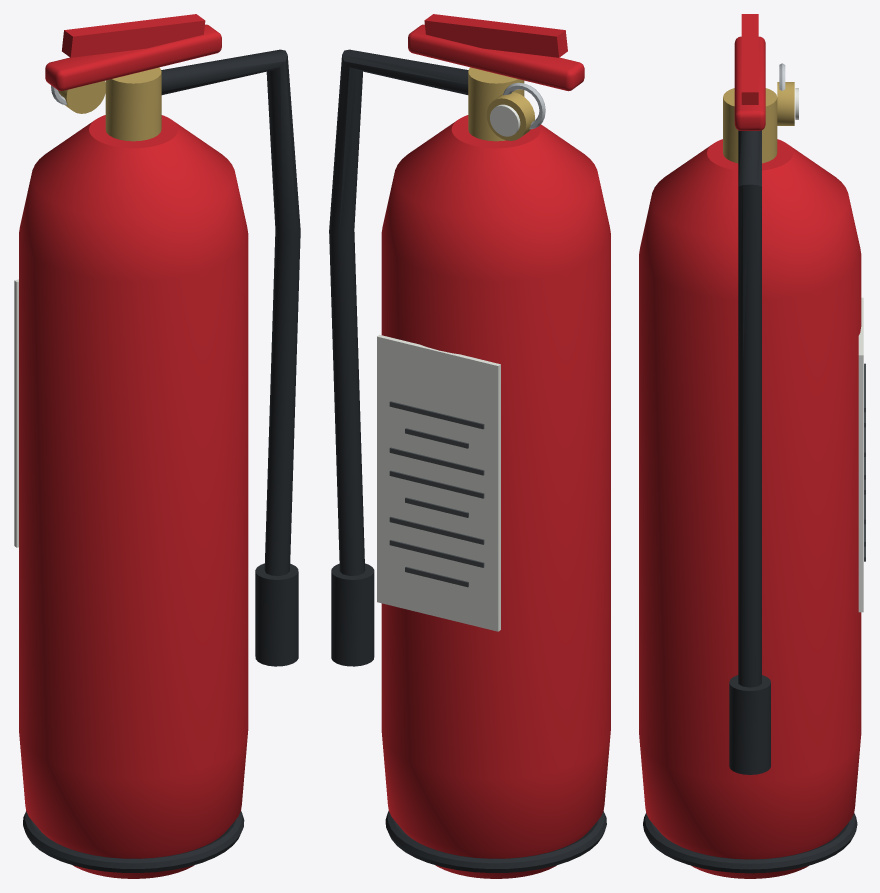
File: second_extinguisher.glb
3 renders of one model, left to right at view 1: azimuth 30°, elevation 25°; view 2: azimuth 150°, elevation 25°; view 3: azimuth 270°, elevation 25°, orthographic. The views are drawn at different scales.
Visible parts, largest first — view 1: second_extinguisher; view 2: second_extinguisher; view 3: second_extinguisher.
Boxes of the visible parts, x1=… form: second_extinguisher: x1=14, y1=14, x2=300, y2=878; second_extinguisher: x1=329, y1=14, x2=610, y2=878; second_extinguisher: x1=639, y1=14, x2=865, y2=878.
Size of the model in its own units: 0.2167 by 0.6491 by 0.1659.
